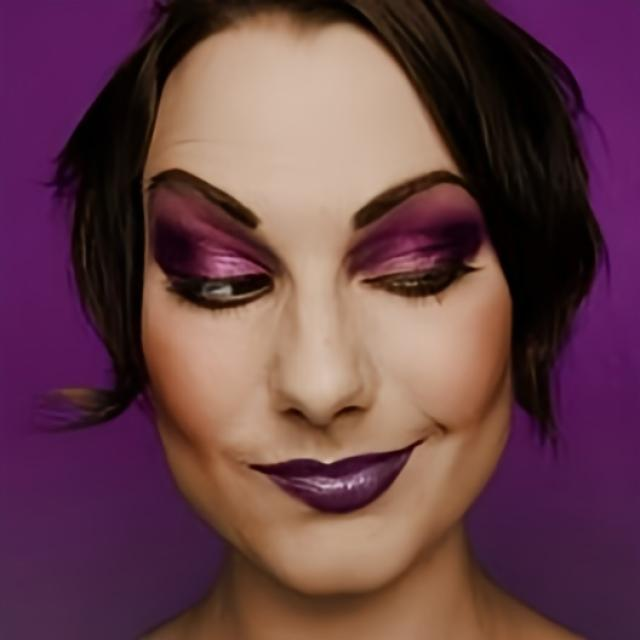content: (136, 6, 518, 596)
